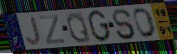G: (87, 9, 112, 43)
J: (25, 15, 42, 46)
O: (132, 6, 157, 39)
Q: (66, 11, 93, 45)
S: (111, 8, 136, 41)
Z: (39, 13, 67, 45)
